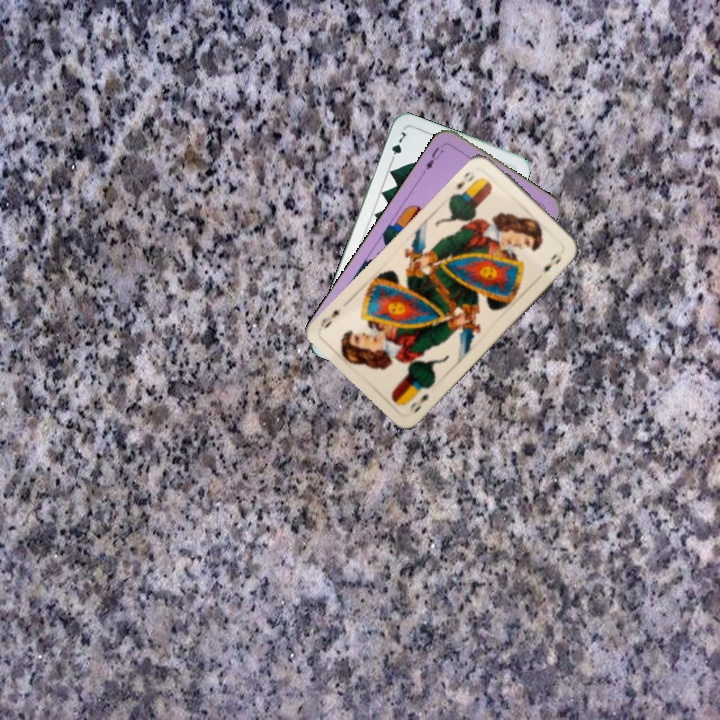EO: (405, 389, 431, 417), (452, 168, 477, 193)
EU: (419, 140, 447, 176)
G7: (386, 127, 408, 166)
